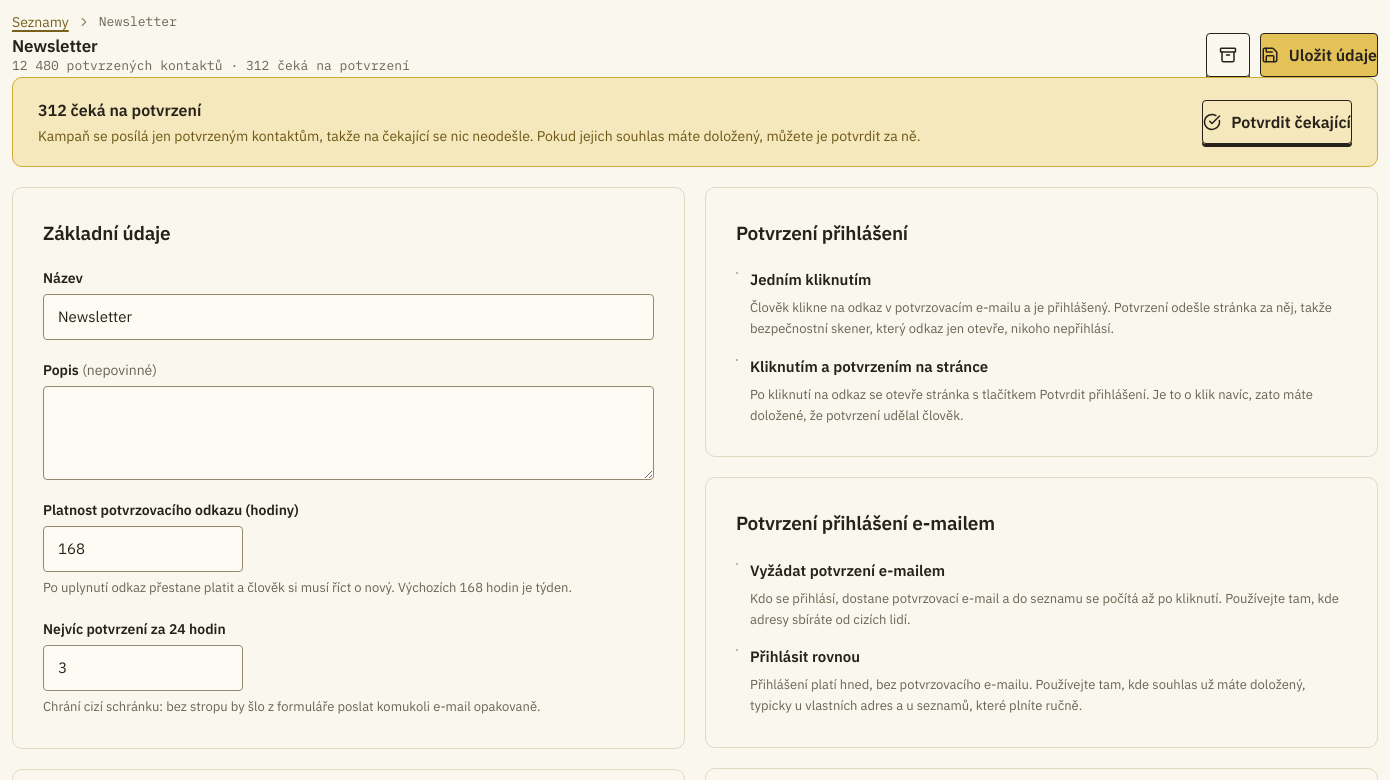
ListDetail › přepnutí režimu uloží a řekne, od kdy platí
Click the 2nd radio button named "Kliknutím a potvrzením na stránce" at [737, 360], box [736, 359, 738, 361]
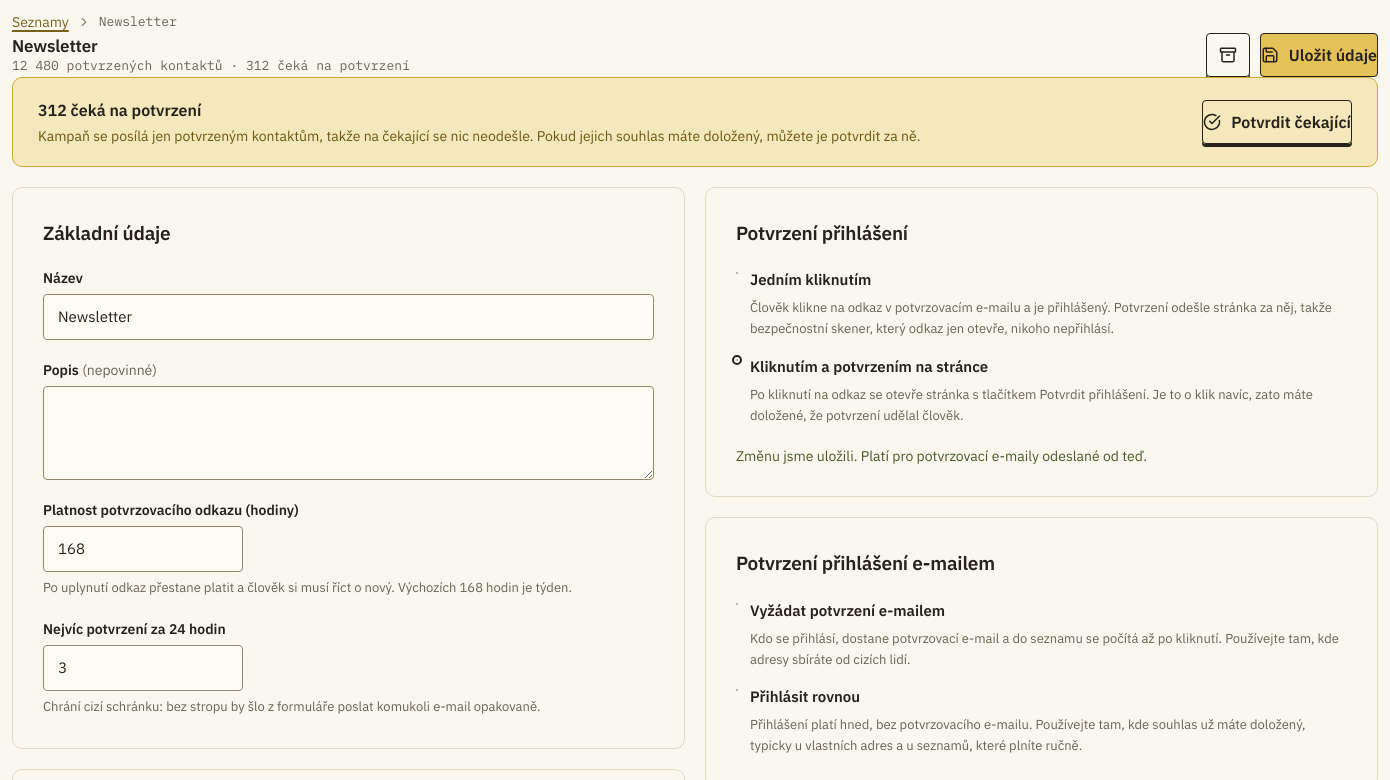
Result: the message shows "Platí pro potvrzovací e-maily odeslané od teď." at [736, 447, 1147, 465]
